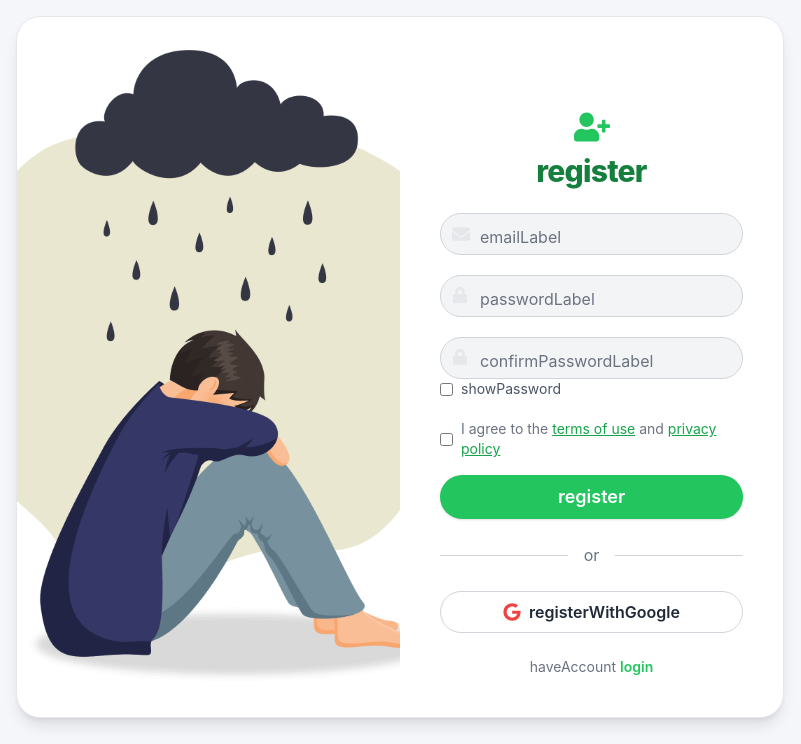
Test: RegisterForm › shows validation error for password mismatch
Password must meet strong password rule first, then we check mismatch
Type "test@example.com" into the field named "email".
click(592, 234); type("test@example.com")  # box [440,213,743,255]
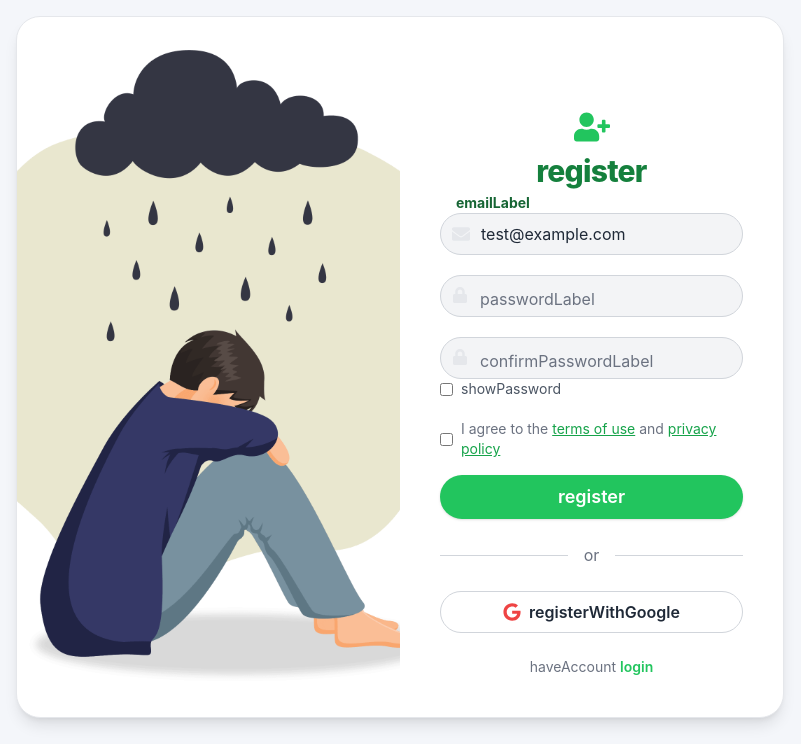
Type "Password123!" into the 1st password field named "password".
click(592, 296); type("Password123!")  # box [440,275,743,317]
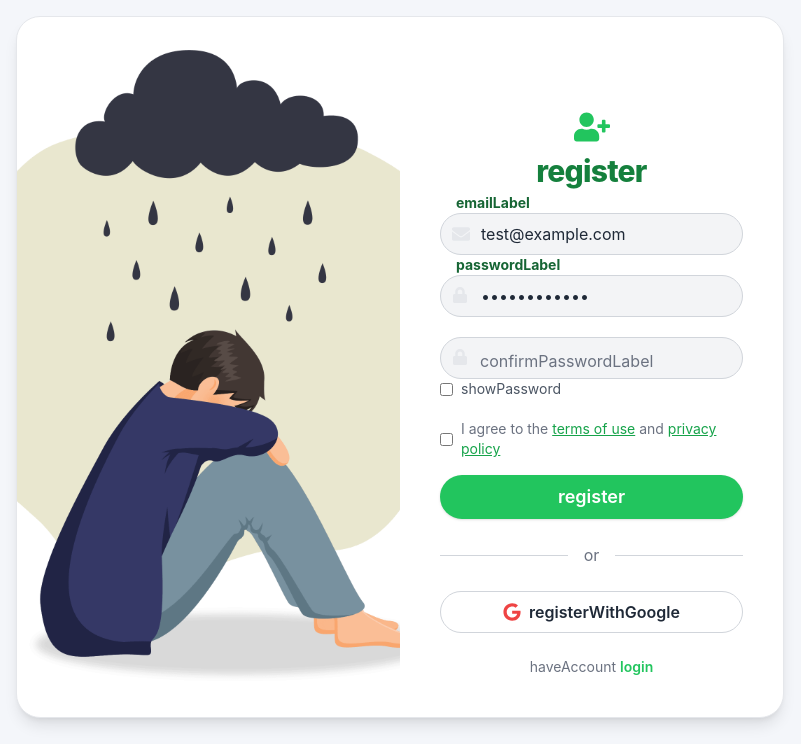
Type "Password456!" into the password field named "confirmPassword" next to "confirmPasswordLabel".
click(592, 358); type("Password456!")  # box [440,337,743,379]
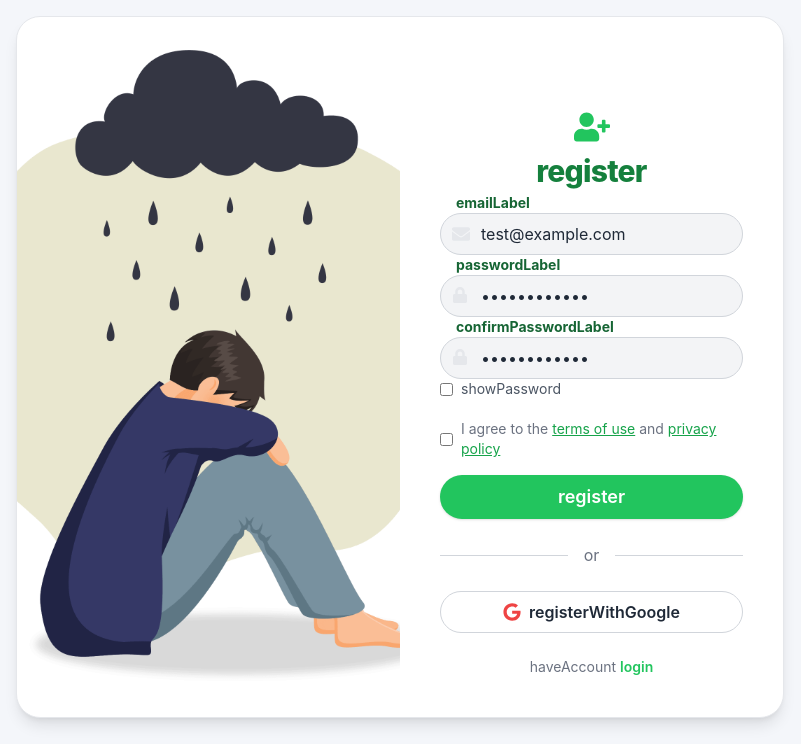
Click the button "register".
click(592, 497)  # box [440,475,743,519]
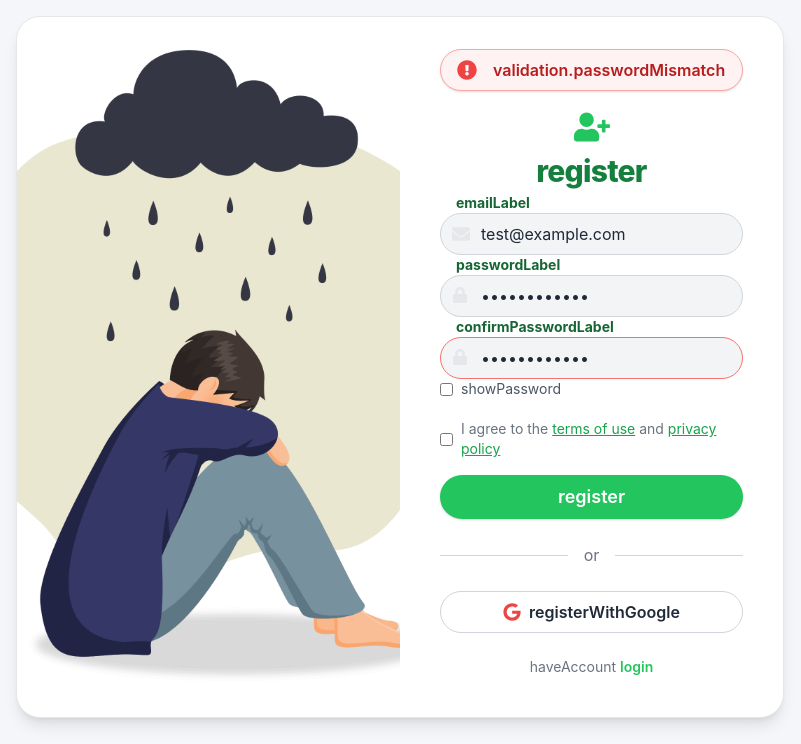
Expected: the text "validation.passwordMismatch" is shown, [493,58,725,82]
